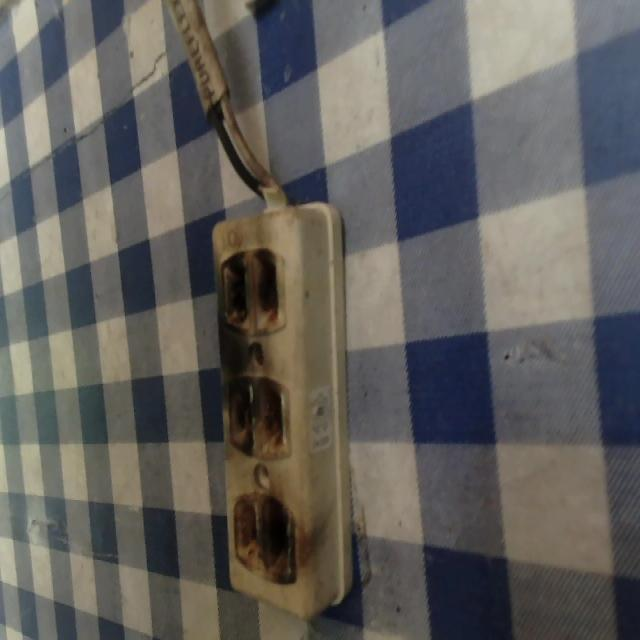-: (218, 244, 285, 336), (225, 371, 294, 458), (231, 492, 295, 580)
